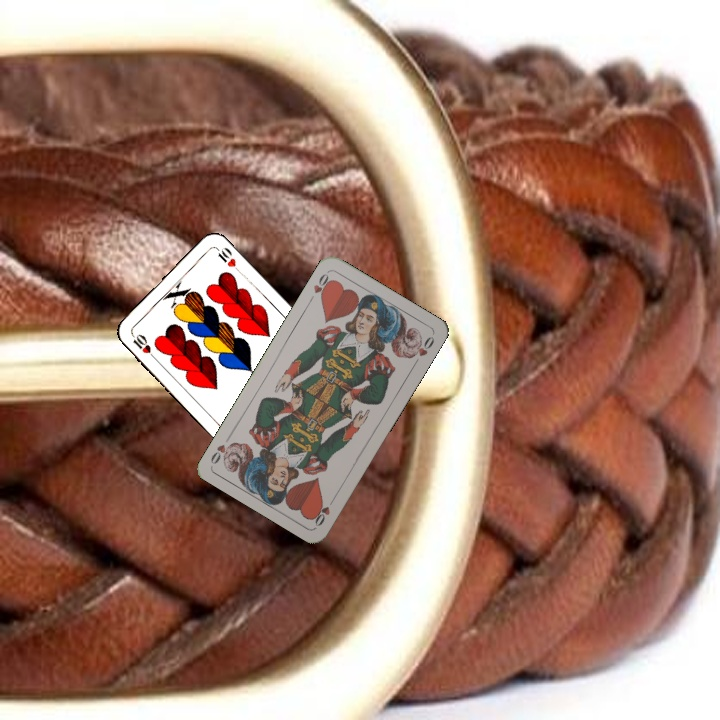H10: (127, 328, 158, 361)
HO: (305, 269, 335, 305), (309, 492, 338, 529)
